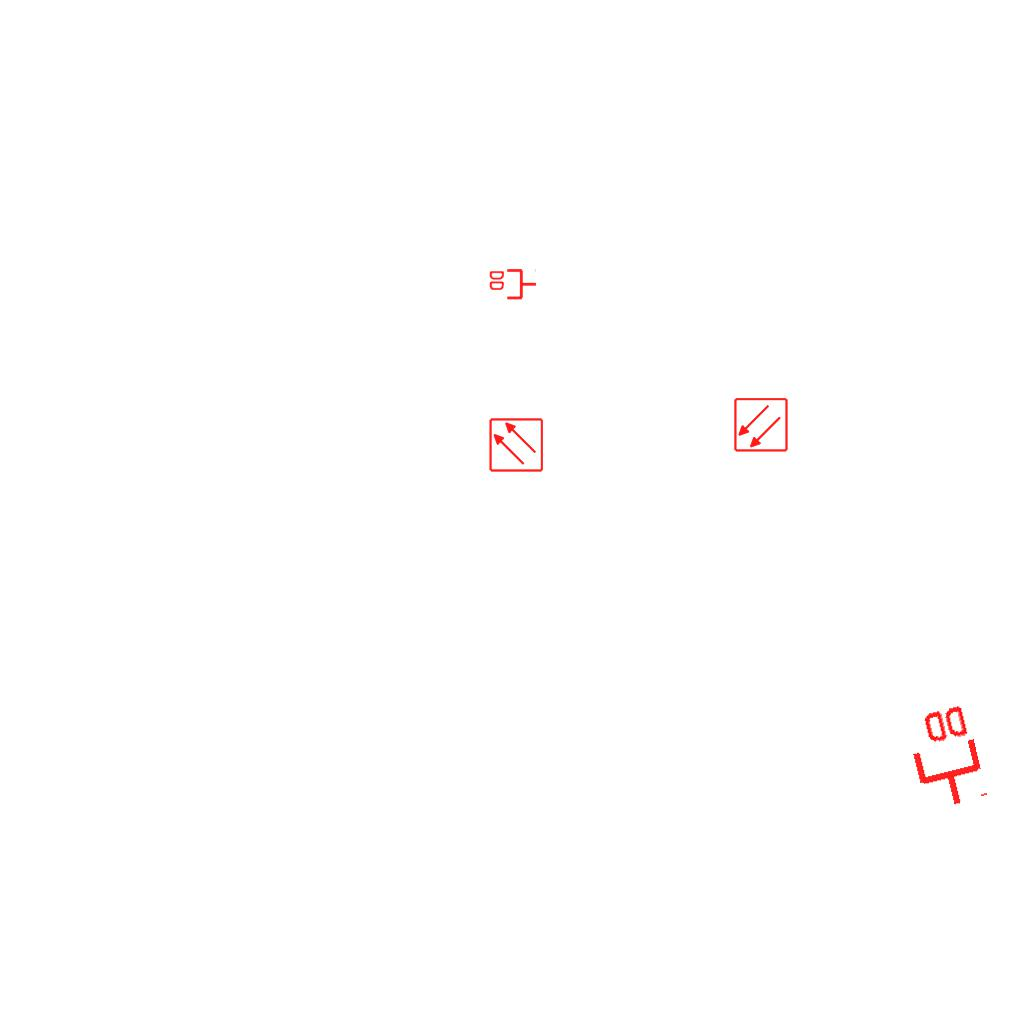Datenanschluss_zweifach: (898, 699, 991, 816), (487, 268, 538, 302)
RMO_Rauchmelder_optischer: (488, 417, 544, 473), (733, 397, 789, 453)
